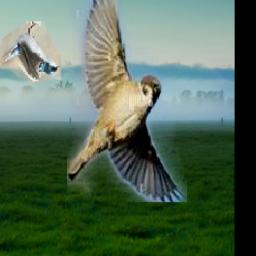Sparrow: (67, 0, 187, 202)
Swallow: (0, 22, 61, 84)
